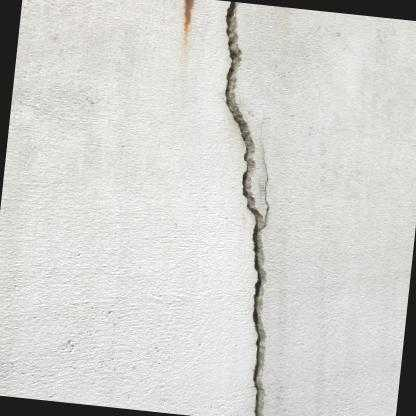crack: (223, 1, 268, 416)
